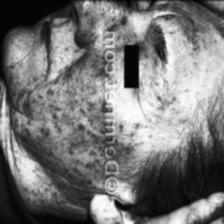Non-Cancerous Skin Condition: (30, 38, 102, 194), (143, 5, 211, 65), (119, 111, 156, 189), (3, 49, 26, 127), (81, 6, 129, 26)
